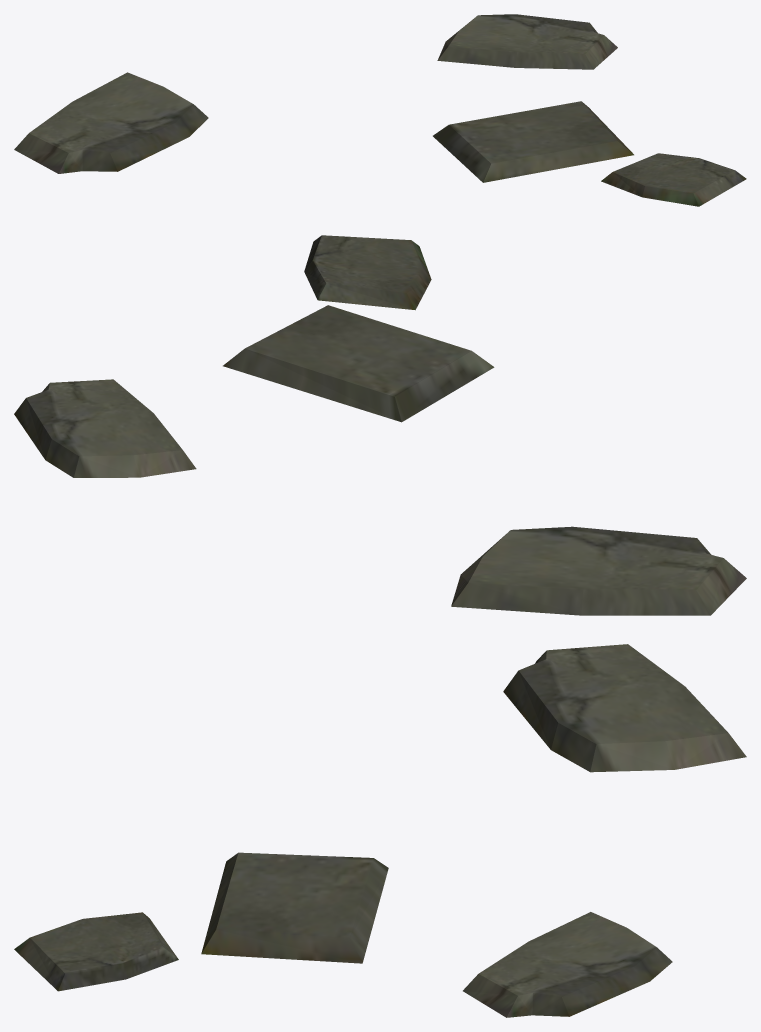
File: DBXJ_07.FBX
The picture shows the model from 3 angles, top to bottom: view 1: azimuth 30°, elevation 25°; view 2: azimuth 150°, elevation 25°; view 3: azimuth 270°, elevation 25°; orthographic projection. The views are drawn at different scales.
Visible parts, largest first — view 1: DBXJ_07; view 2: DBXJ_07; view 3: DBXJ_07.
Boxes of the visible parts, <box> form: DBXJ_07: <box>14,14,746,206</box>; DBXJ_07: <box>14,235,746,615</box>; DBXJ_07: <box>14,644,746,1017</box>.
Size of the model in its own units: 148 by 3.77 by 126.
